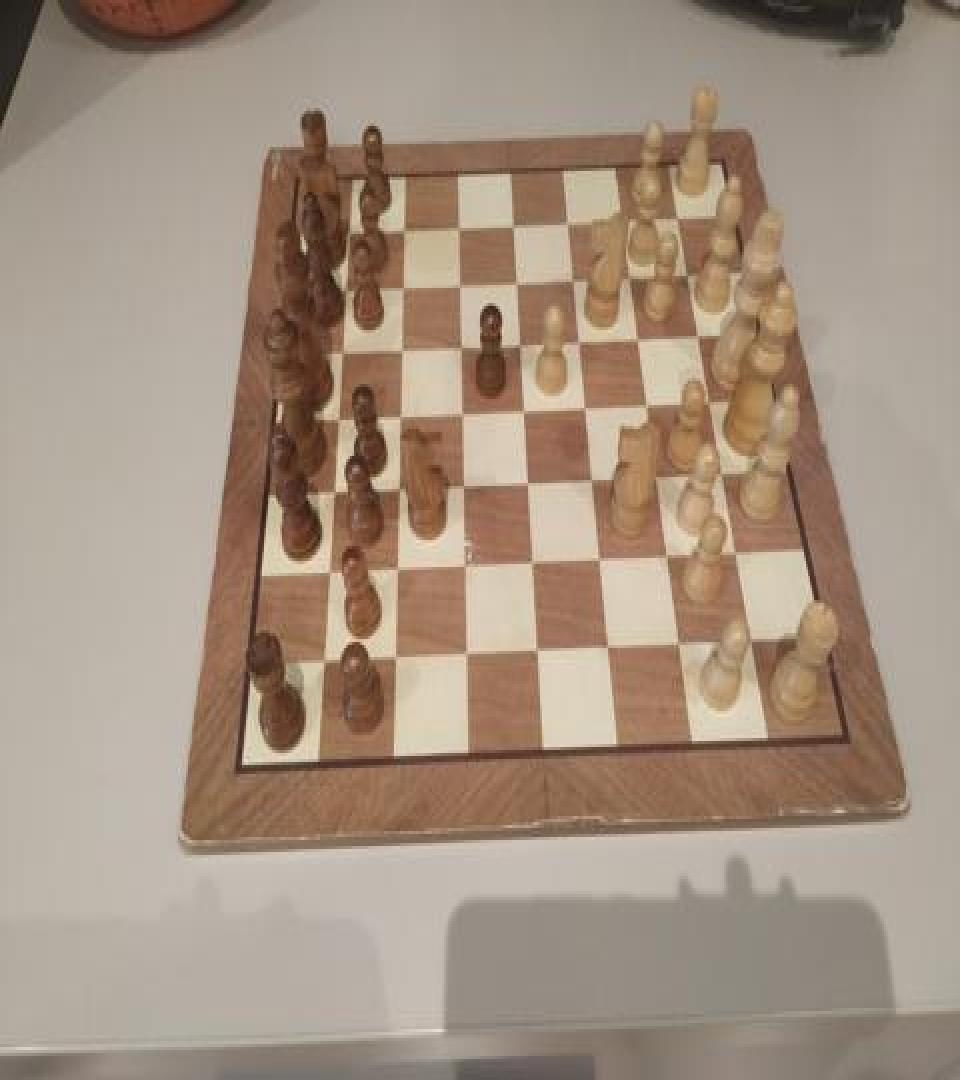xcorner: (518, 466, 538, 497), (325, 400, 345, 431), (388, 397, 408, 428), (668, 199, 688, 230), (384, 644, 404, 674), (456, 640, 476, 670), (600, 634, 620, 664), (672, 630, 692, 660), (744, 627, 764, 657), (385, 554, 405, 584), (523, 548, 543, 578), (728, 538, 748, 568), (321, 474, 341, 504), (387, 472, 407, 502), (453, 470, 473, 500), (584, 464, 604, 494), (649, 460, 669, 490), (714, 459, 734, 489), (451, 394, 471, 424), (514, 393, 534, 423), (576, 390, 596, 420), (639, 387, 659, 417), (701, 386, 721, 416), (329, 332, 349, 362), (390, 330, 410, 360), (450, 327, 470, 357), (510, 324, 530, 354), (570, 322, 590, 352), (629, 320, 649, 350), (689, 318, 709, 348), (333, 268, 353, 298), (391, 267, 411, 297), (449, 264, 469, 294), (506, 262, 526, 292), (564, 261, 584, 291), (621, 258, 641, 288), (678, 256, 698, 286), (336, 212, 356, 242), (392, 208, 412, 238), (447, 207, 467, 237), (503, 206, 523, 236), (558, 202, 578, 232), (613, 201, 633, 231), (311, 647, 331, 676), (528, 638, 548, 667), (316, 557, 336, 586), (454, 551, 474, 580), (592, 545, 612, 574), (660, 542, 680, 571)
